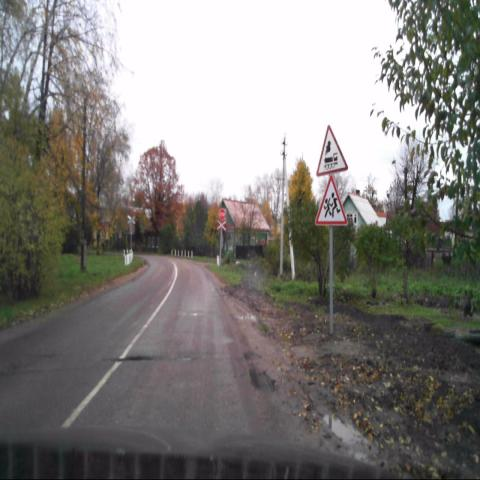1_2: (316, 125, 348, 174)
